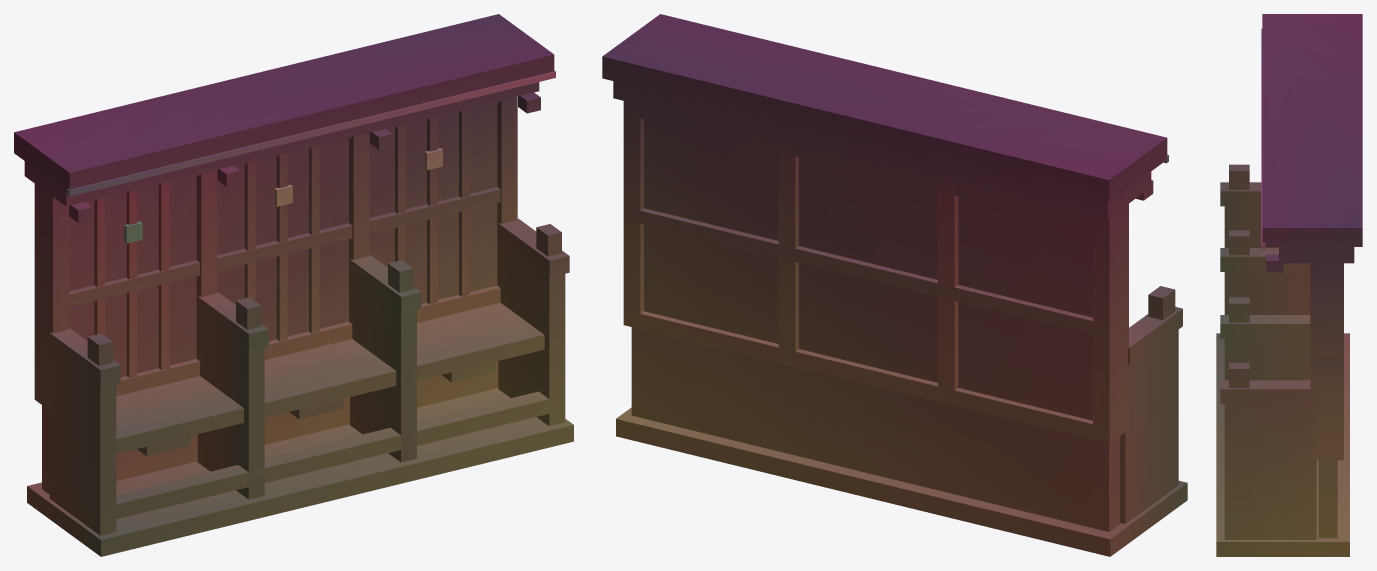
File: choir_stall.glb
The picture shows the model from 3 angles, left to right: view 1: azimuth 30°, elevation 25°; view 2: azimuth 150°, elevation 25°; view 3: azimuth 270°, elevation 25°; orthographic projection. The views are drawn at different scales.
Visible parts, largest first — view 1: choir_stall, choir_brass; view 2: choir_stall; view 3: choir_stall, choir_brass.
Boxes of the visible parts, x1=… form: choir_stall: x1=14, y1=14, x2=573, y2=556; choir_brass: x1=67, y1=70, x2=555, y2=243; choir_stall: x1=602, y1=14, x2=1187, y2=556; choir_stall: x1=1216, y1=14, x2=1362, y2=556; choir_brass: x1=1261, y1=28, x2=1265, y2=249.
Bounding box in the file's own units: 2.43 × 1.75 × 0.7.
